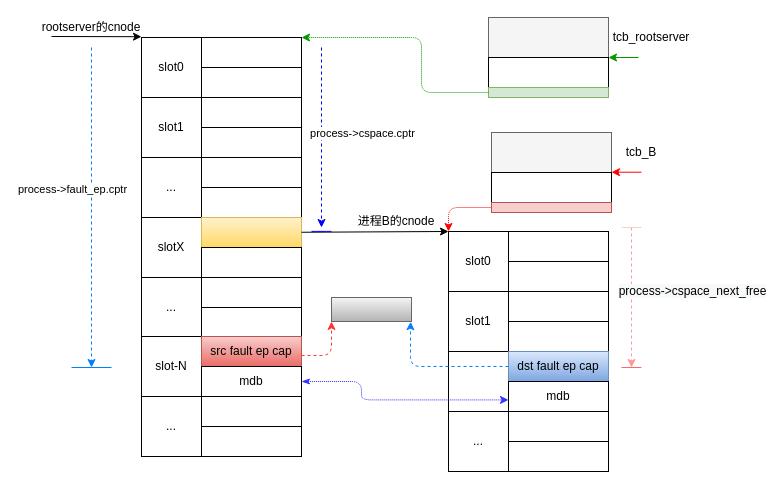
This 783x489 diagram has some shape labels left out. The shapes that lost their labels are listed below. From the top down, each one's centre as x and y in pixels, then its label:
At (251,232): "B cnode cap".
At (371,309): "endpoint".
At (478,381): "slot2".
